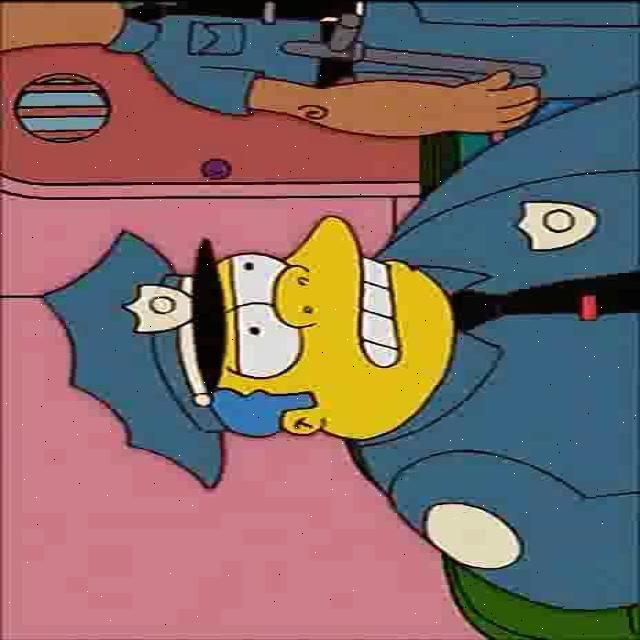Chief Wiggam: (38, 212, 460, 492)
